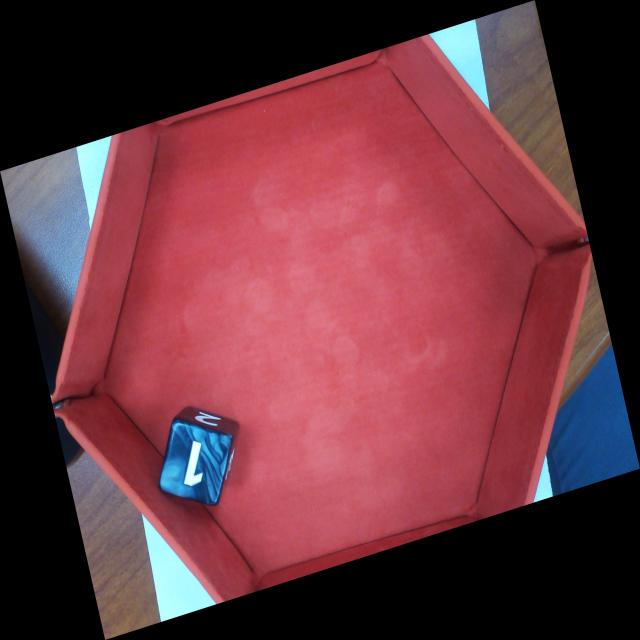dice: (157, 418, 234, 511)
